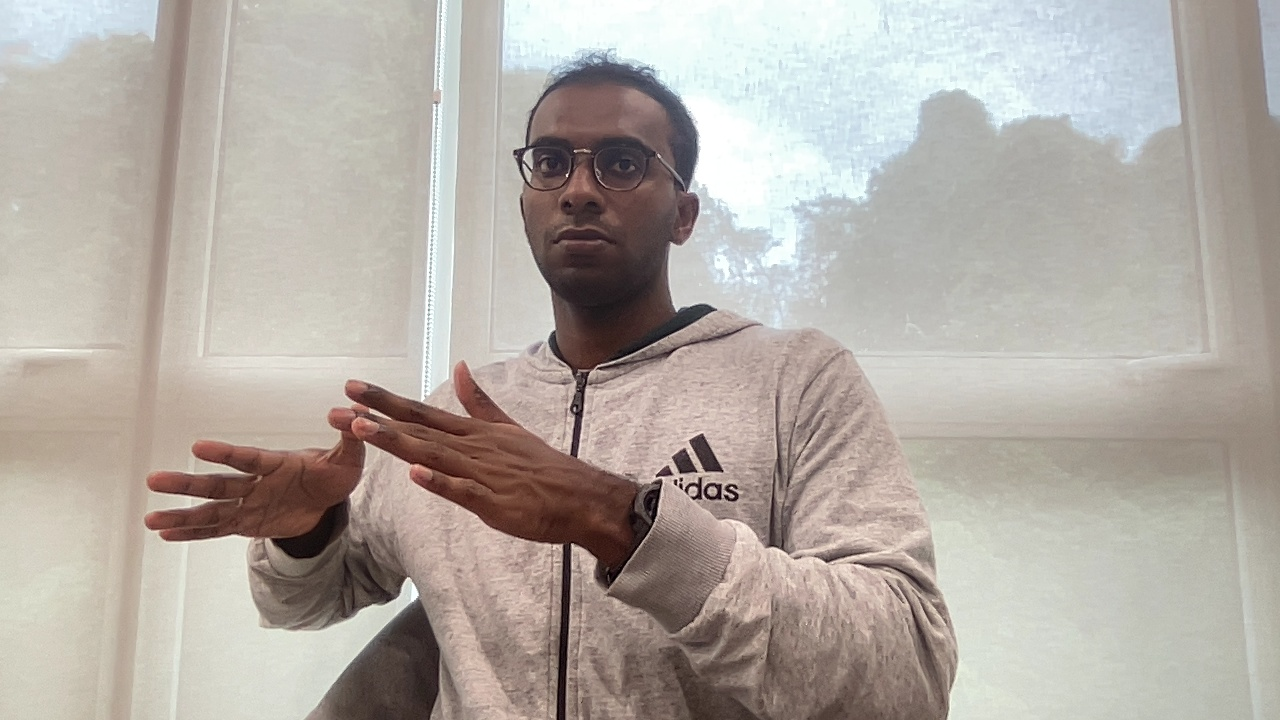finish: (136, 358, 615, 559)
